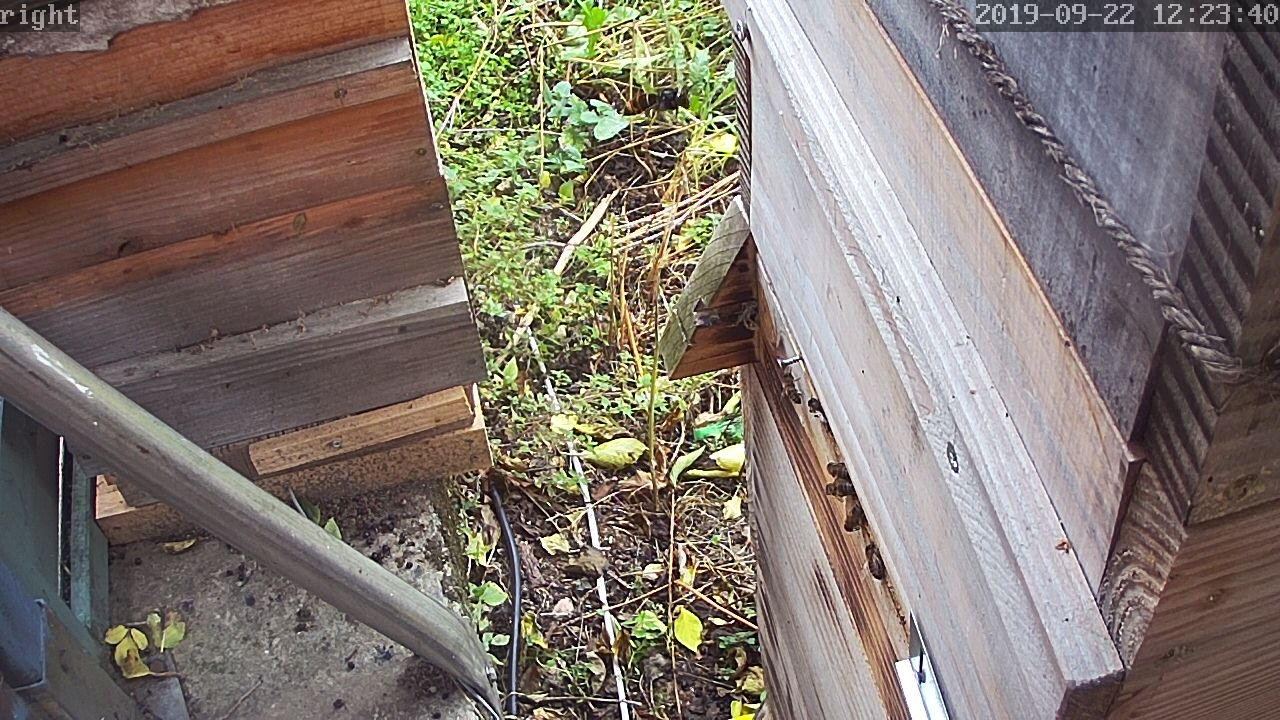bee: (811, 460, 855, 501), (819, 499, 866, 537), (854, 541, 891, 586), (775, 371, 805, 406)
hornet: (614, 81, 683, 126)
